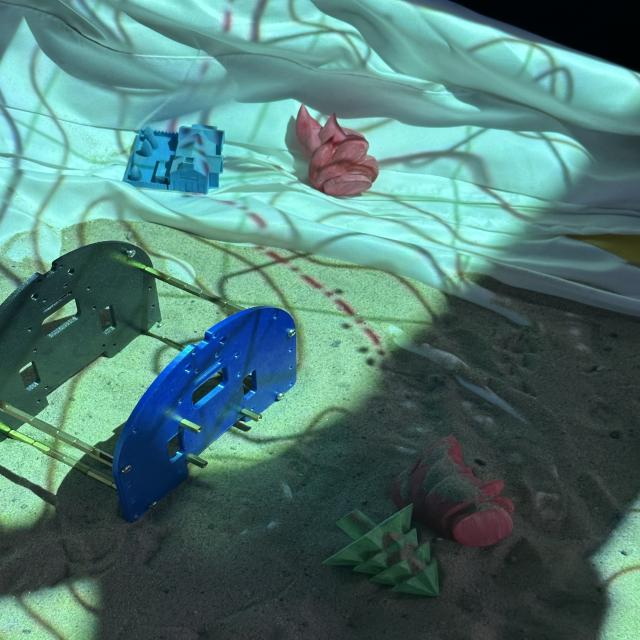fire: (398, 437, 514, 548), (294, 103, 379, 195)
house: (121, 123, 225, 194)
tree: (327, 506, 445, 598)
